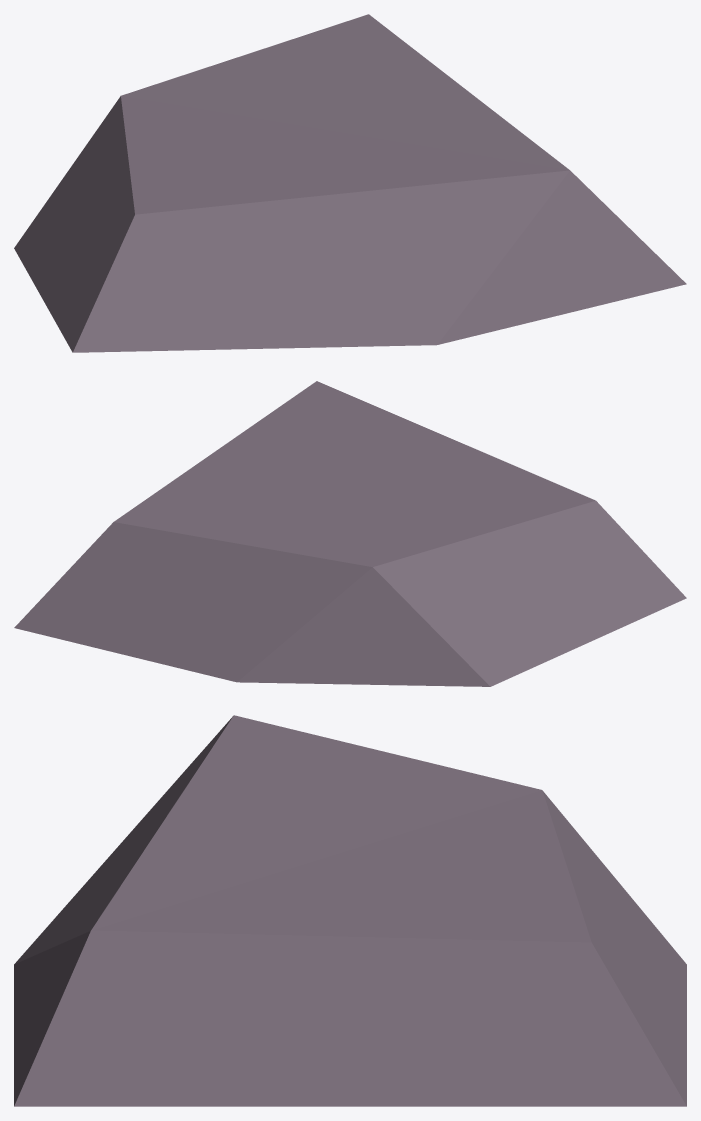
The model's file is Small_stone_v09.fbx.
The picture shows the model from 3 angles, top to bottom: view 1: azimuth 30°, elevation 25°; view 2: azimuth 150°, elevation 25°; view 3: azimuth 270°, elevation 25°; orthographic projection. The views are drawn at different scales.
Parts seen in each view (by area): view 1: Small_stone_v09; view 2: Small_stone_v09; view 3: Small_stone_v09.
Part boxes in pixels (x1,y1,x2,y2): Small_stone_v09: (14,14,686,352); Small_stone_v09: (14,381,686,686); Small_stone_v09: (14,715,686,1106).
Bounding box in the file's own units: 18.05 × 3.86 × 16.7.
1 material, 1 textured.
